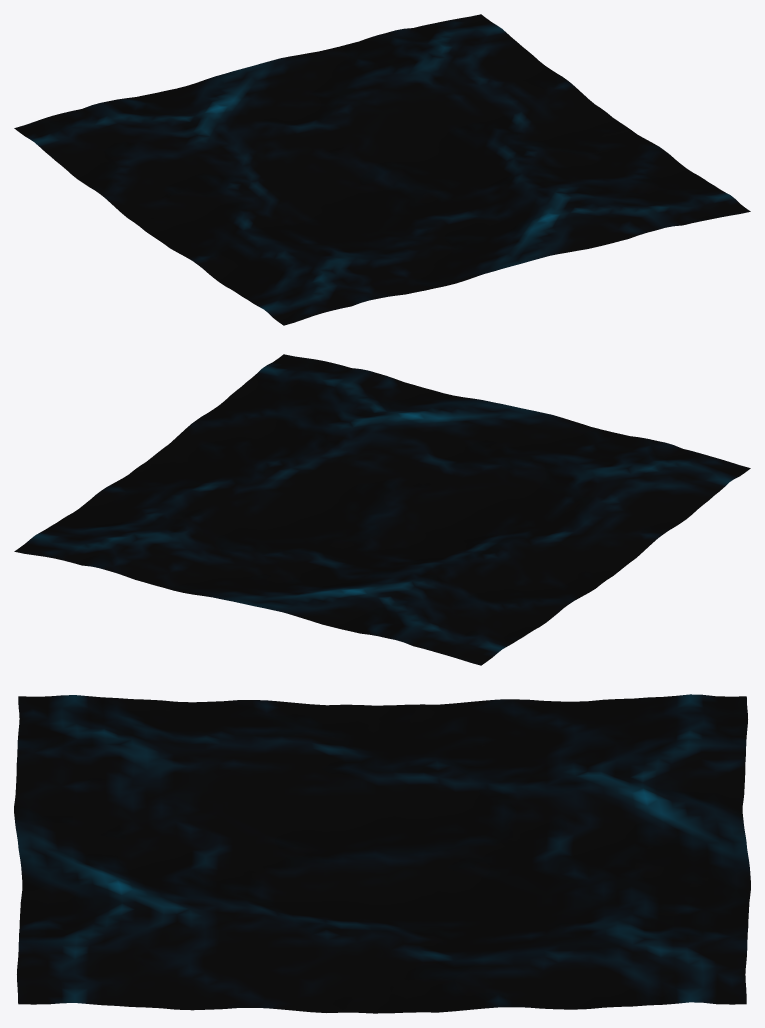
Rendered from Sea(8).glb.
3 views of the same model, one above another, from view 1: azimuth 30°, elevation 25°; view 2: azimuth 150°, elevation 25°; view 3: azimuth 270°, elevation 25° (orthographic). The views are drawn at different scales.
Visible parts, largest first — view 1: Sea; view 2: Sea; view 3: Sea.
Boxes of the visible parts, box(x1,y1,x2,y2) form: Sea: box(14, 14, 750, 325); Sea: box(14, 354, 750, 665); Sea: box(14, 694, 750, 1013).
Size of the model in its own units: 50.14 by 1.79 by 50.57.
